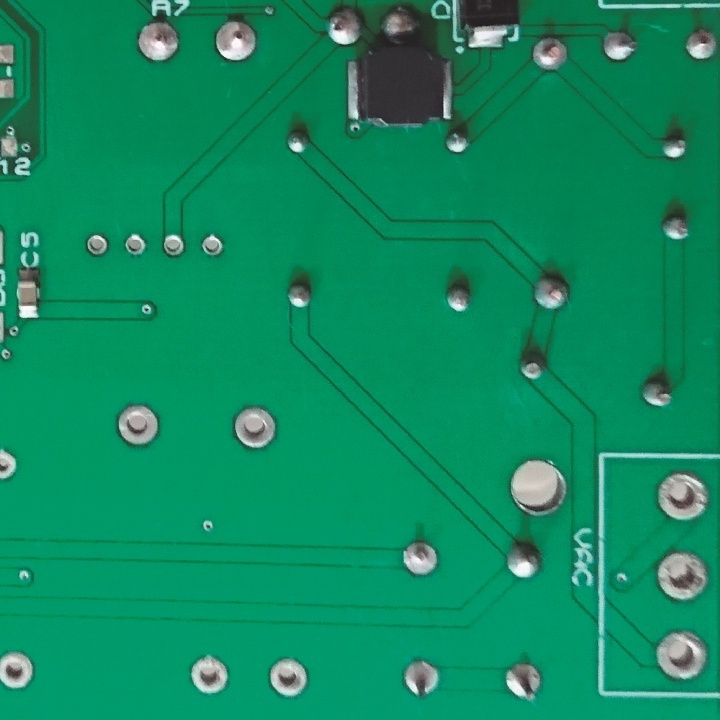F: (654, 548, 710, 611), (654, 467, 709, 528), (654, 628, 710, 683), (131, 16, 183, 66), (114, 401, 162, 455), (231, 401, 278, 454), (211, 18, 261, 65), (186, 654, 235, 700), (266, 655, 312, 704), (501, 659, 547, 706), (1, 646, 41, 697), (400, 657, 441, 703), (401, 538, 441, 582), (531, 36, 572, 75), (82, 231, 112, 260), (158, 232, 187, 260), (196, 232, 224, 260), (1, 446, 21, 483), (121, 230, 147, 258)
